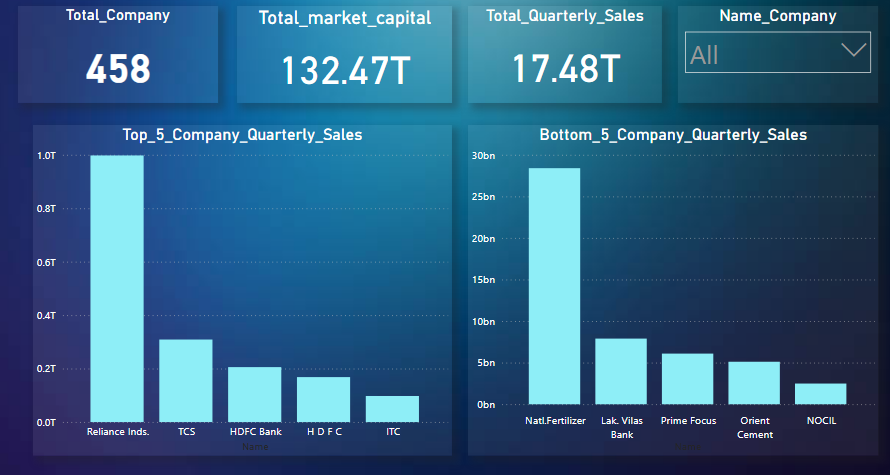

What the dashboard file says about the page in this screenshot:
{"tool":"powerbi","page":{"name":"Quarterly Sales","canvas":[1280,720],"ordinal":1},"visuals":[{"type":"card","title":"Total_Company","fields":{"Values":["CountNonNull(Top 500 Companies - India.S.No.)"]},"box":[30.2,21.8,280.5,136.1],"z":0},{"type":"card","title":"Total_market_capital","fields":{"Values":["Sum(Top 500 Companies - India.Market_Capital)"]},"box":[337.6,21.8,302.4,136.1],"z":1},{"type":"card","title":"Total_Quarterly_Sales","fields":{"Values":["Sum(Top 500 Companies - India.Sales_Quater)"]},"box":[661.8,21.8,272.1,136.1],"z":2},{"type":"columnChart","title":"Bottom_5_Company_Quarterly_Sales","fields":{"Category":["Top 500 Companies - India.Name"],"Y":["Sum(Top 500 Companies - India.Sales_Quater)"]},"box":[661.8,189.8,576.2,463.6],"z":3},{"type":"slicer","title":"Name_Company","fields":{"Values":["Top 500 Companies - India.Name"]},"box":[957.5,21.8,280.5,136.1],"z":5},{"type":"columnChart","title":"Top_5_Company_Quarterly_Sales","fields":{"Category":["Top 500 Companies - India.Name"],"Y":["Sum(Top 500 Companies - India.Sales_Quater)"]},"box":[52.1,189.8,587.9,463.6],"z":6}]}

Visuals, with their boxes on the page's 1280x720 design canvas (x1, y1, x2, y2). These are canvas units, not pixel positions in the 890x475 screenshot, which may show the page scaled, cropped or inside an application window:
"Total_Company" card: <box>30,22,311,158</box>
"Total_market_capital" card: <box>338,22,640,158</box>
"Total_Quarterly_Sales" card: <box>662,22,934,158</box>
"Bottom_5_Company_Quarterly_Sales" columnChart: <box>662,190,1238,653</box>
"Name_Company" slicer: <box>958,22,1238,158</box>
"Top_5_Company_Quarterly_Sales" columnChart: <box>52,190,640,653</box>
